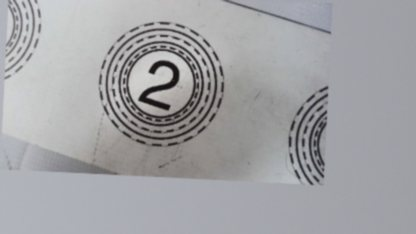2r: (94, 18, 227, 151)
